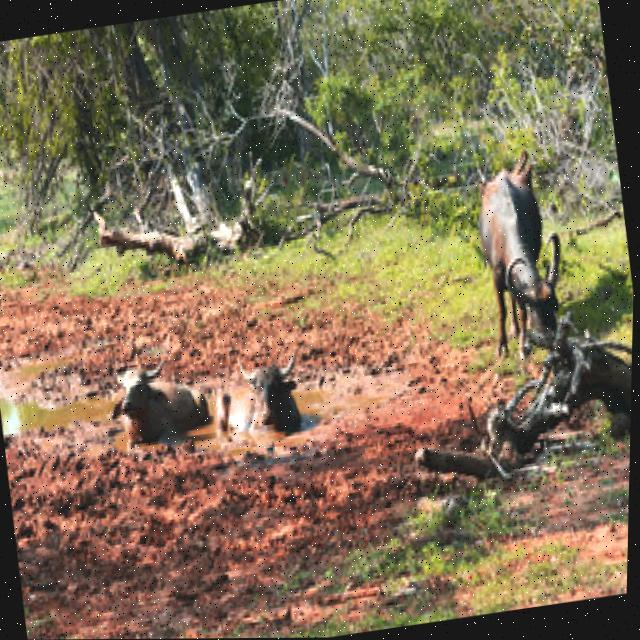Buffalo: (466, 155, 589, 374)
